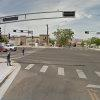Crosswalk: (18, 52, 100, 83)
